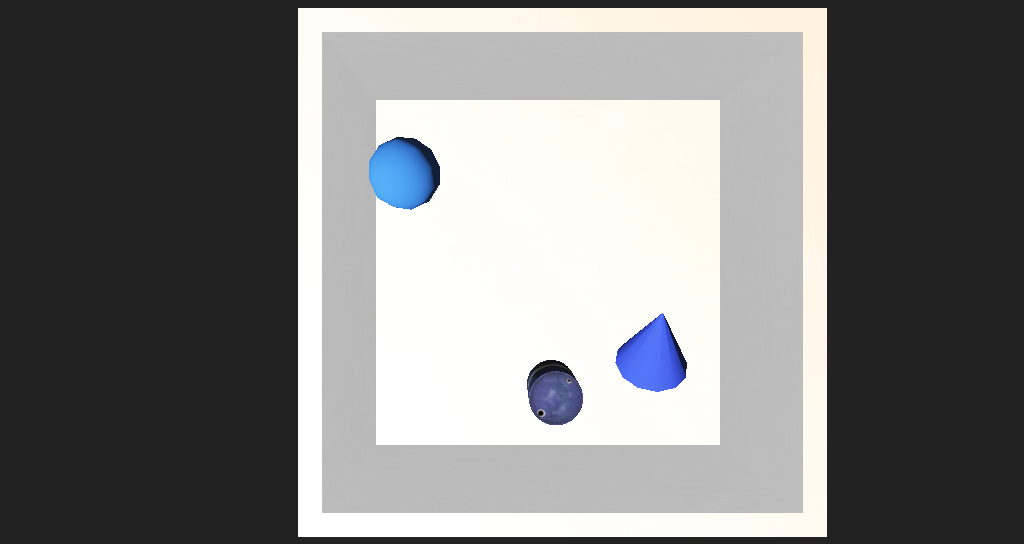cone: (488, 322, 536, 365)
cylinder: (566, 277, 633, 344)
sphere: (344, 188, 411, 231)
